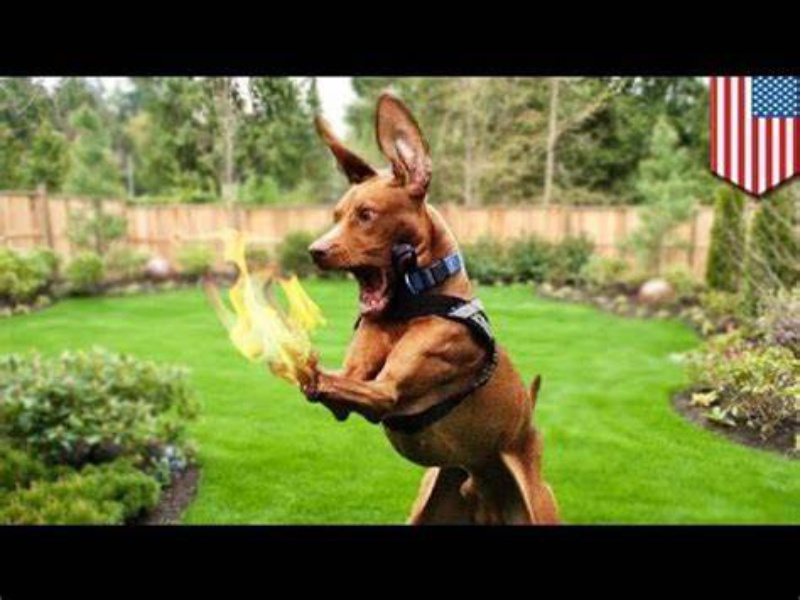fire: (197, 257, 318, 358)
